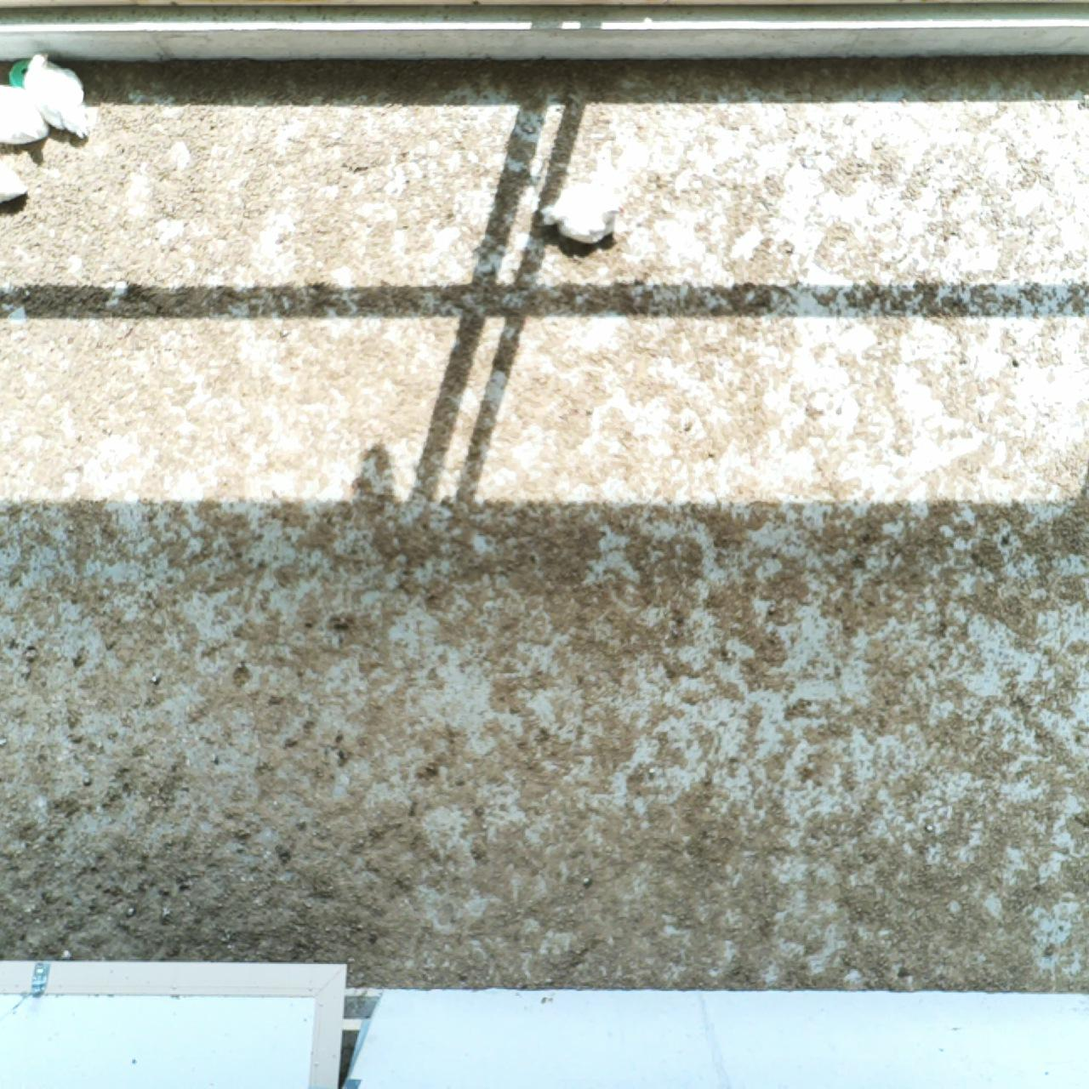chicken: (24, 49, 97, 141), (536, 180, 623, 248), (0, 83, 46, 145), (0, 158, 29, 213)
